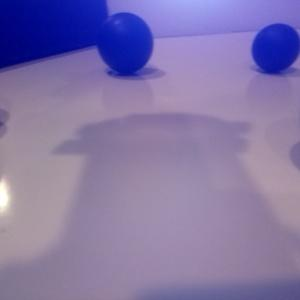dead_ball: (97, 12, 153, 74), (251, 23, 300, 73)
